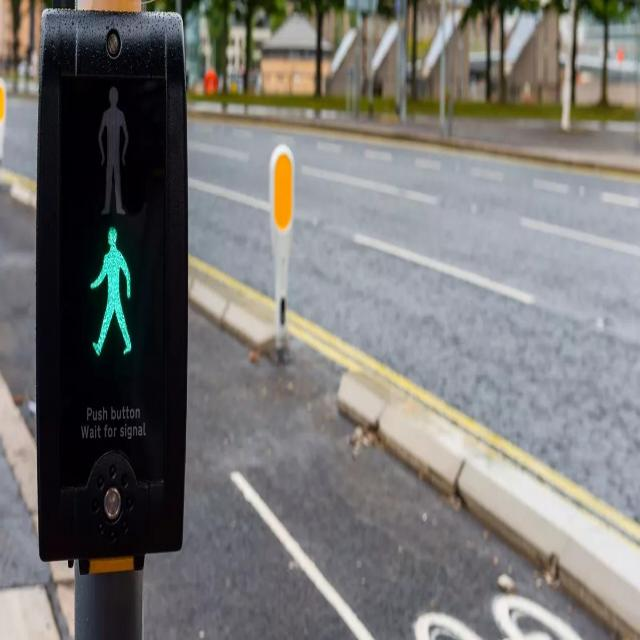Go: (67, 215, 156, 382)
